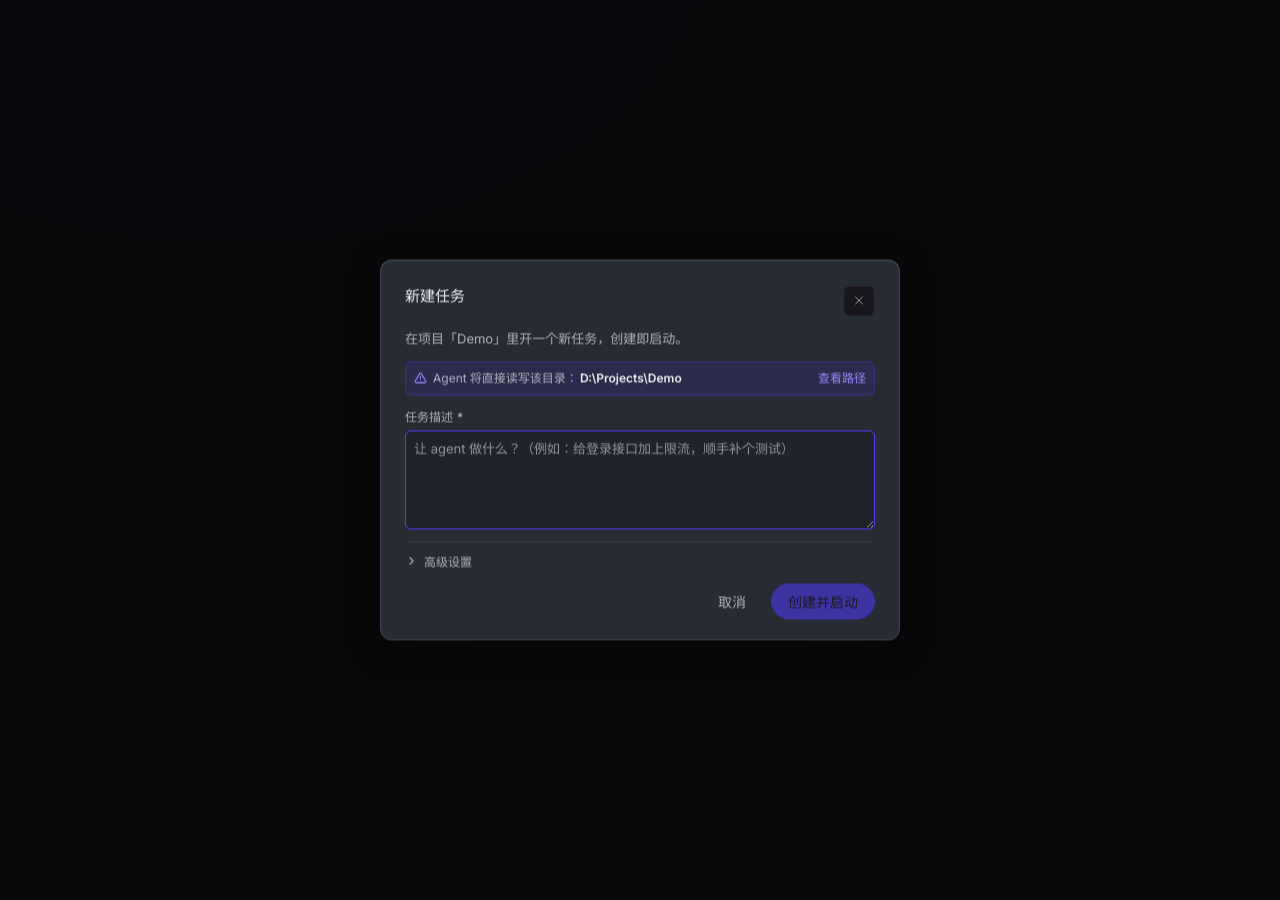
Test: TaskCreationDialog 化简（#1177 §B） › 完成目标：单行 input[type=text] + placeholder「什么结果算完成？」（#1177 效果图 03）
Click the button "高级设置": click(448, 563) [405,551,875,572]
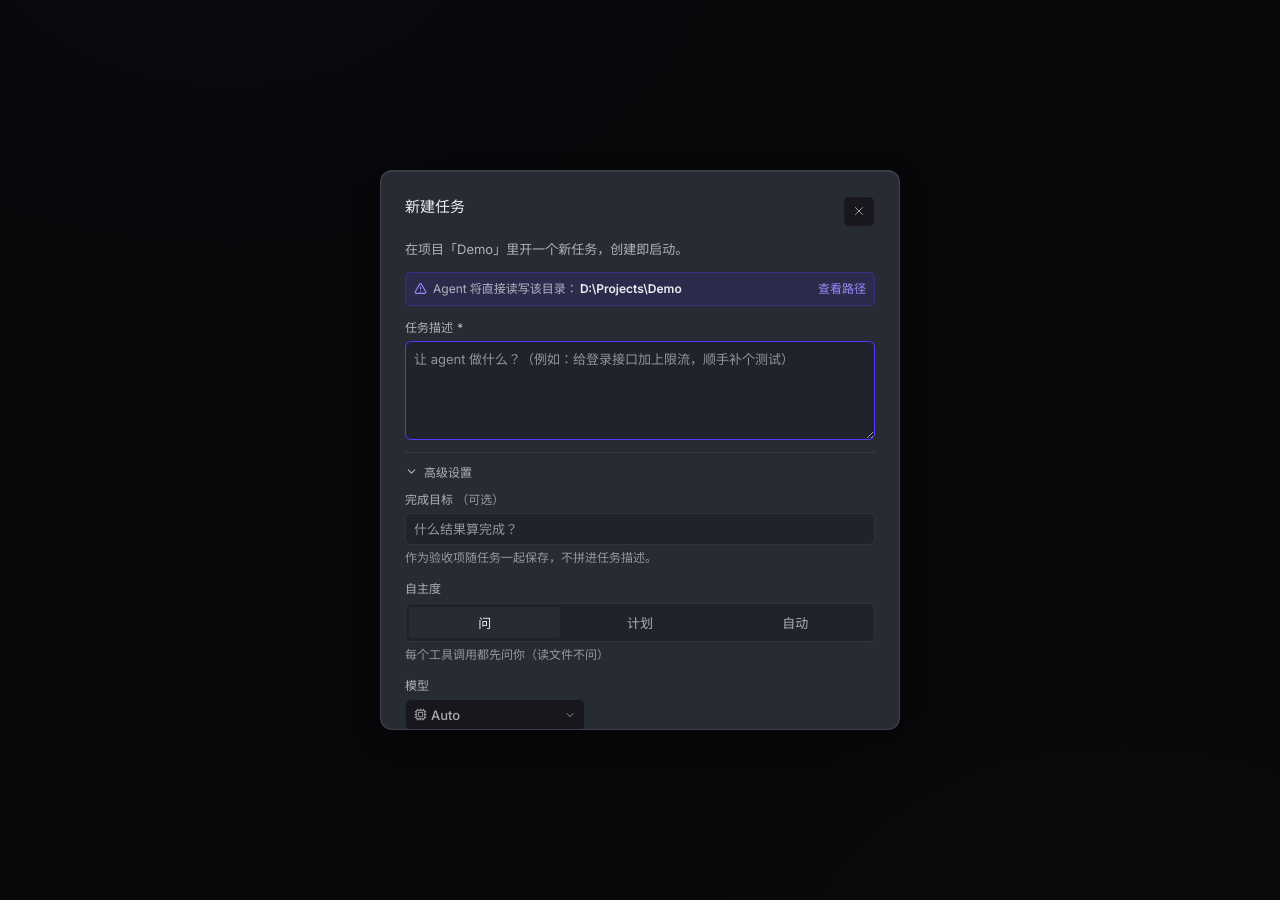
Now the label "完成目标 （可选）" is shown, box [405,492,504,507]
